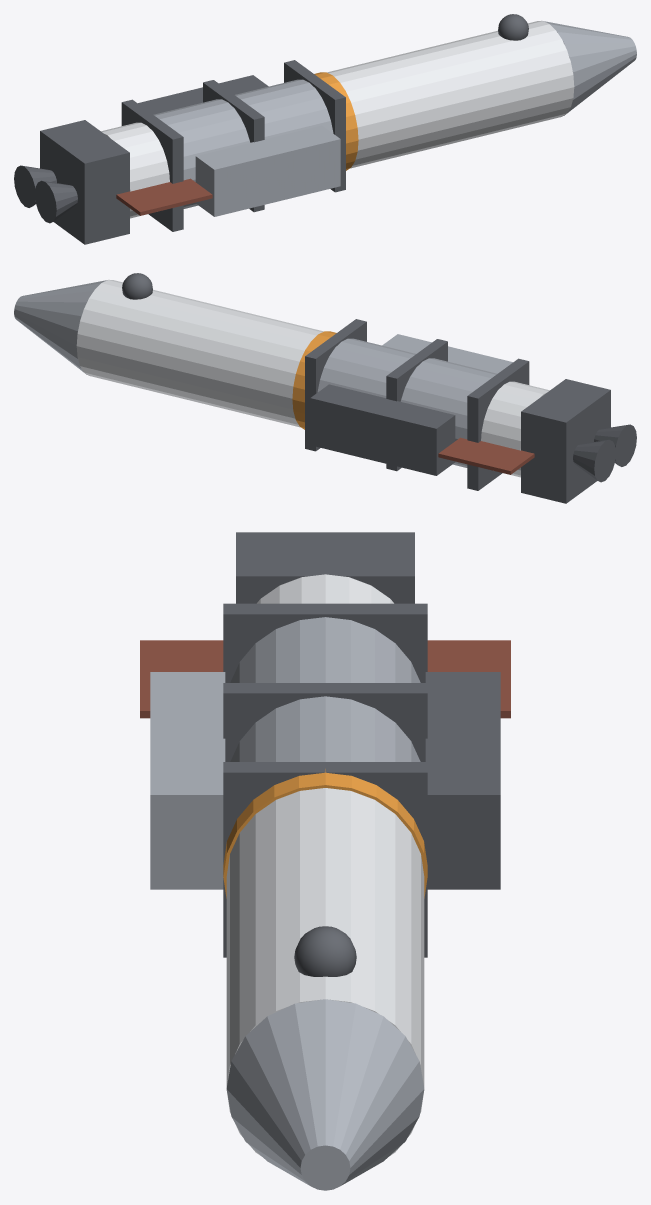
File: boreas.glb
3 views of the same model, one above another, from view 1: azimuth 30°, elevation 25°; view 2: azimuth 150°, elevation 25°; view 3: azimuth 270°, elevation 25° (orthographic). The views are drawn at different scales.
Parts seen in each view (by area): view 1: boreas_fwd_hull, boreas_ore_container_1, boreas_engine, boreas_hold, boreas_bow_hull, boreas_nose, boreas_aft_hull, boreas_hold_rib_2, boreas_radiator_1, boreas_hold_rib_0, boreas_ore_container_0, boreas_hold_rib_1 (+4 smaller); view 2: boreas_fwd_hull, boreas_ore_container_0, boreas_engine, boreas_hold, boreas_bow_hull, boreas_nose, boreas_aft_hull, boreas_hold_rib_2, boreas_radiator_0, boreas_hold_rib_0, boreas_ore_container_1, boreas_hold_rib_1 (+4 smaller); view 3: boreas_nose, boreas_fwd_hull, boreas_hold, boreas_ore_container_0, boreas_ore_container_1, boreas_bow_hull, boreas_engine, boreas_hold_rib_2, boreas_hold_rib_0, boreas_hold_rib_1, boreas_collar, boreas_radiator_0 (+3 smaller).
Boxes of the visible parts, x1=… form: boreas_fwd_hull: x1=327, y1=38, x2=501, y2=168; boreas_ore_container_1: x1=195, y1=125, x2=340, y2=216; boreas_engine: x1=40, y1=120, x2=129, y2=244; boreas_hold: x1=153, y1=79, x2=333, y2=208; boreas_bow_hull: x1=466, y1=21, x2=574, y2=134; boreas_nose: x1=543, y1=21, x2=636, y2=115; boreas_aft_hull: x1=101, y1=122, x2=169, y2=218; boreas_hold_rib_2: x1=121, y1=99, x2=183, y2=231; boreas_radiator_1: x1=116, y1=178, x2=212, y2=215; boreas_hold_rib_0: x1=284, y1=60, x2=345, y2=192; boreas_ore_container_0: x1=138, y1=75, x2=268, y2=114; boreas_hold_rib_1: x1=203, y1=80, x2=264, y2=212; boreas_fwd_hull: x1=149, y1=297, x2=323, y2=427; boreas_ore_container_0: x1=310, y1=384, x2=455, y2=475; boreas_engine: x1=521, y1=379, x2=610, y2=503; boreas_hold: x1=317, y1=338, x2=497, y2=467; boreas_bow_hull: x1=76, y1=280, x2=184, y2=393; boreas_nose: x1=14, y1=280, x2=107, y2=374; boreas_aft_hull: x1=481, y1=381, x2=549, y2=477; boreas_hold_rib_2: x1=467, y1=358, x2=529, y2=490; boreas_radiator_0: x1=438, y1=437, x2=534, y2=474; boreas_hold_rib_0: x1=305, y1=319, x2=366, y2=451; boreas_ore_container_1: x1=382, y1=334, x2=512, y2=373; boreas_hold_rib_1: x1=386, y1=339, x2=447, y2=471; boreas_nose: x1=226, y1=999, x2=424, y2=1190; boreas_fwd_hull: x1=226, y1=788, x2=424, y2=1015; boreas_hold: x1=230, y1=617, x2=420, y2=761; boreas_ore_container_0: x1=425, y1=672, x2=500, y2=889; boreas_ore_container_1: x1=150, y1=672, x2=225, y2=889; boreas_bow_hull: x1=226, y1=930, x2=424, y2=1156; boreas_engine: x1=236, y1=532, x2=414, y2=603; boreas_hold_rib_2: x1=223, y1=603, x2=427, y2=682; boreas_hold_rib_0: x1=223, y1=762, x2=427, y2=957; boreas_hold_rib_1: x1=223, y1=683, x2=427, y2=761; boreas_collar: x1=223, y1=769, x2=427, y2=898; boreas_radiator_0: x1=427, y1=640, x2=510, y2=718.
Size of the model in its own units: 66 by 11.5 by 17.8.
